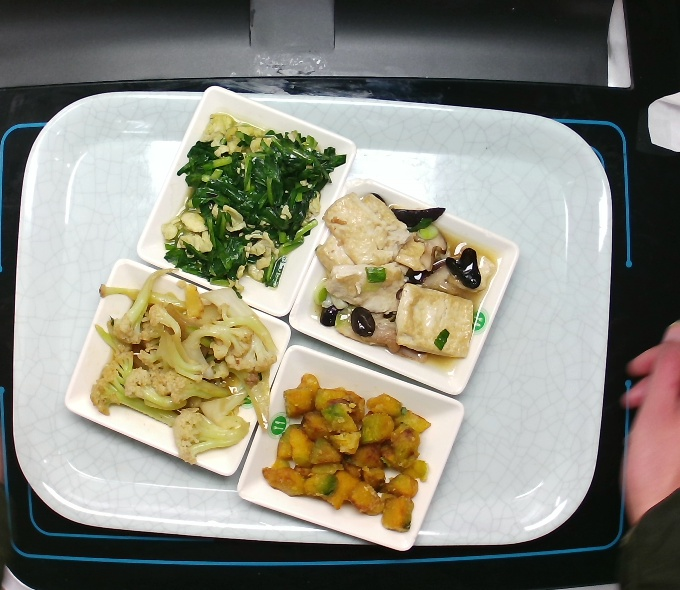wcq-DanHuangNanGua: (258, 371, 441, 540)
wcq-JiaChangDouFu: (313, 187, 509, 375)
wcq-JiuCaiJiDan: (161, 111, 352, 292)
wcq-QiuCai: (82, 264, 286, 463)
